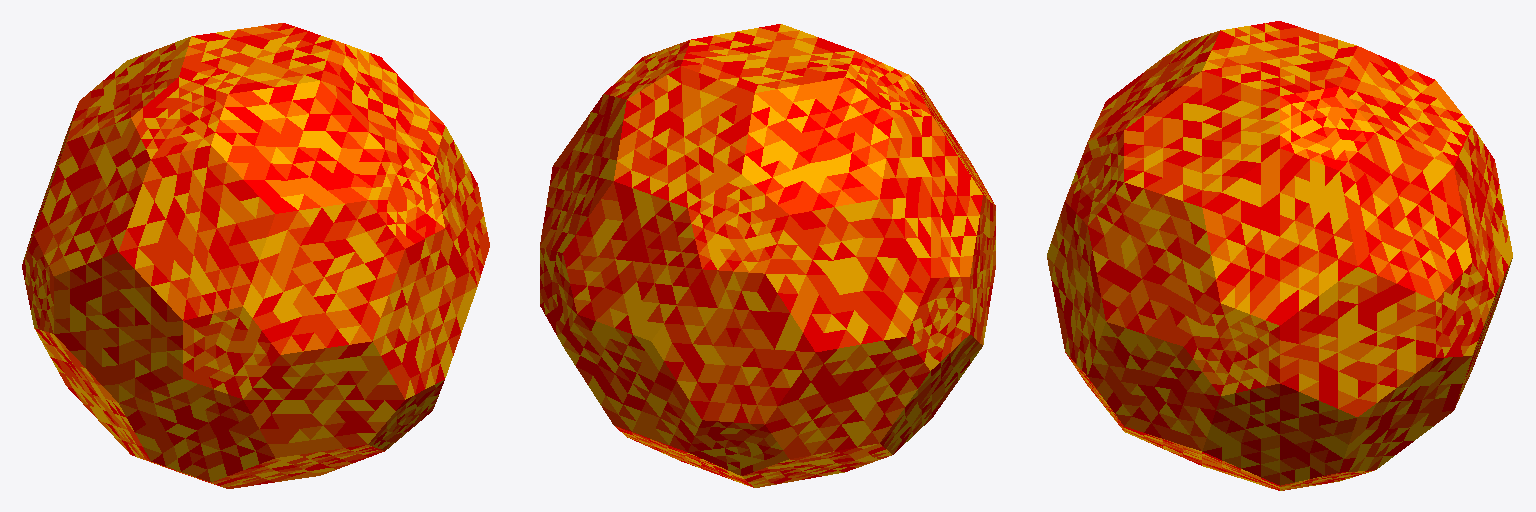
The model's file is testfc.obj.
The picture shows the model from 3 angles: view 1: azimuth 30°, elevation 25°; view 2: azimuth 150°, elevation 25°; view 3: azimuth 270°, elevation 25°; orthographic projection.
Visible parts, largest first — view 1: 0; view 2: 0; view 3: 0.
Part boxes in pixels (left/top/right/bottom): 0: left=22, top=23, right=489, bottom=488; 0: left=540, top=24, right=995, bottom=487; 0: left=1047, top=21, right=1512, bottom=490.
Size of the model in its own units: 453 by 424 by 453.